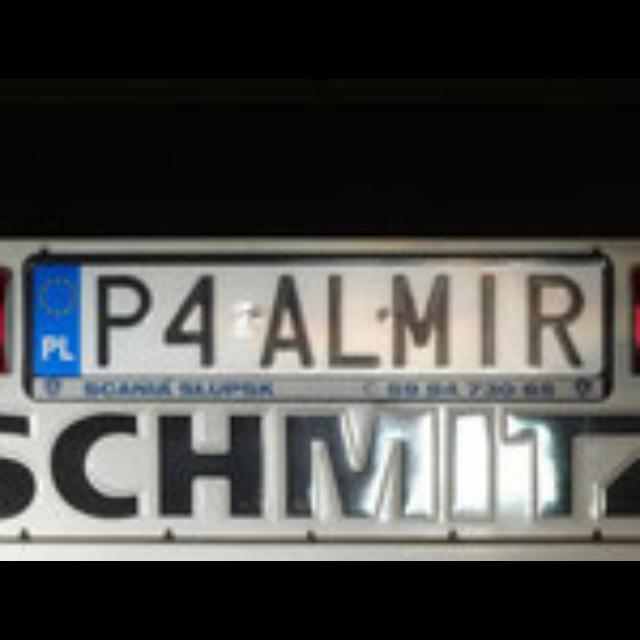pl_license_plate: (26, 259, 596, 369)
